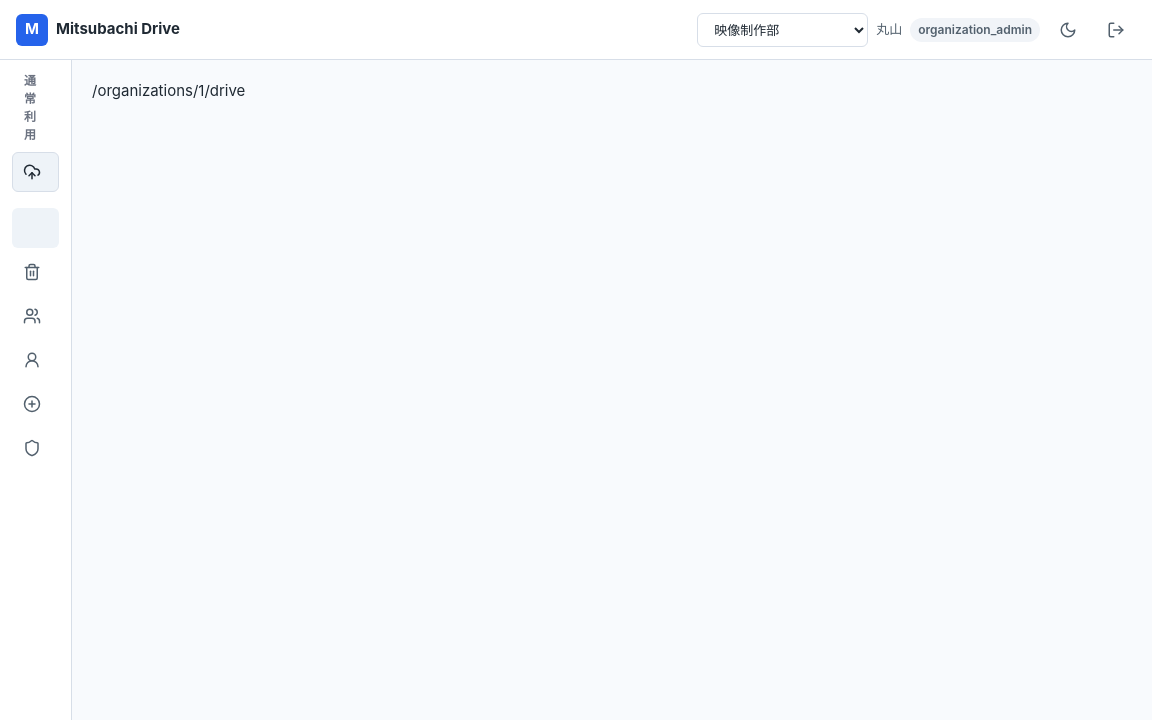
AppLayout organization navigation › shows organization switcher and navigates to selected organization drive
Select "大学プロジェクト" in the dropdown named "Organizationを切り替え": (783, 30) x1=697 y1=12 x2=868 y2=46
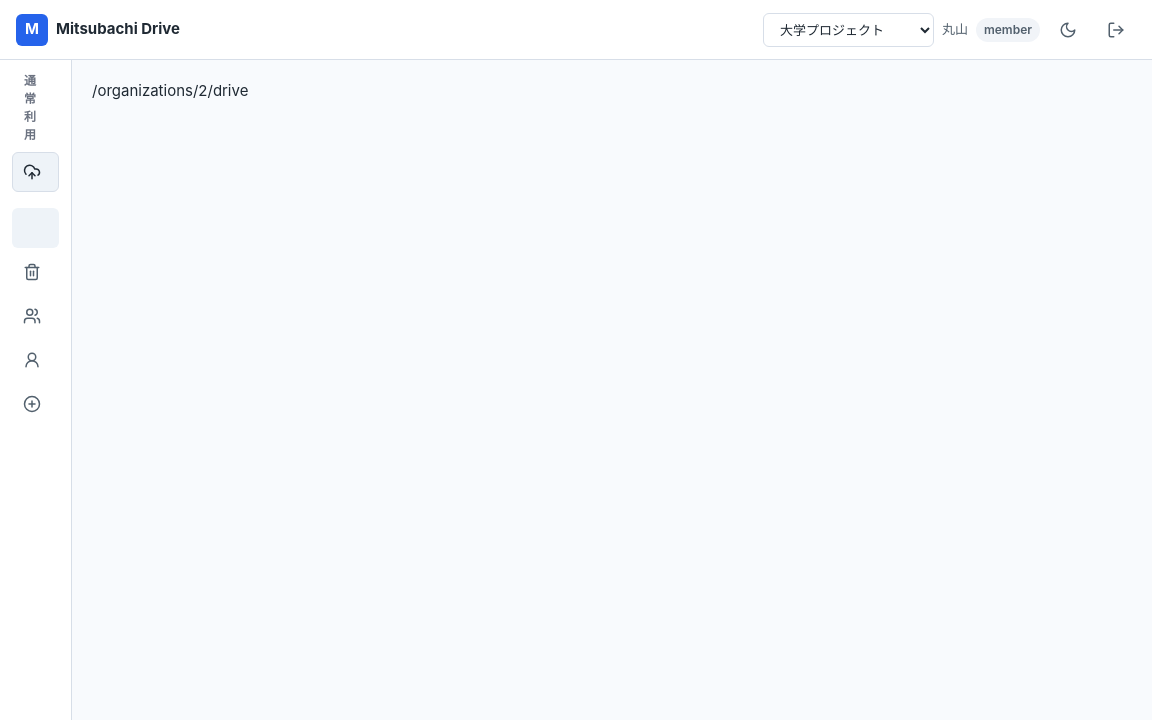
Expected: the text with test id "location" reads "/organizations/2/drive", x1=92 y1=81 x2=248 y2=100
